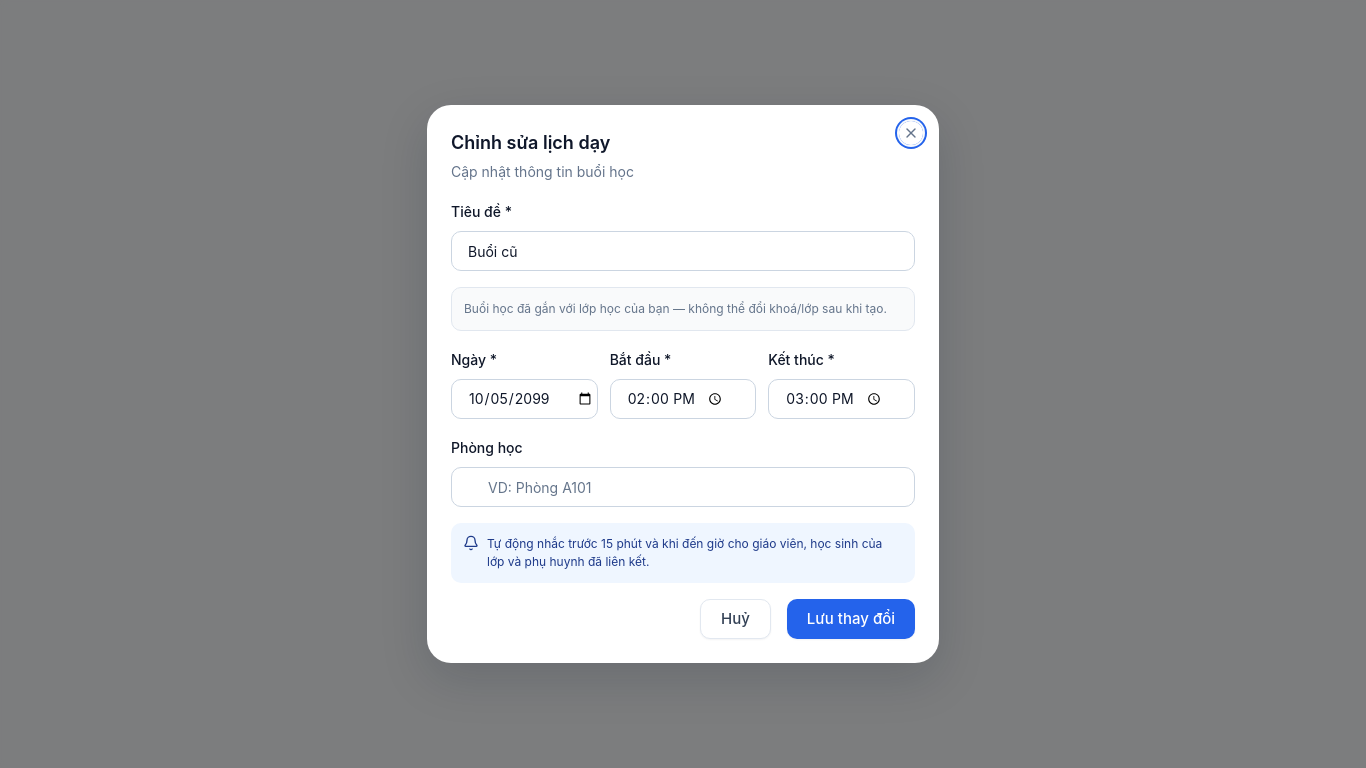
Test case: ScheduleEventFormDialog — sửa buổi › giờ kết thúc không sau giờ bắt đầu: hiện lỗi và KHÔNG lưu
The width and height of the screenshot is (1366, 768).
Replace the text in the time field labelled "Kết thúc *" with "13:00" at (842, 399), box [768,379,915,419]
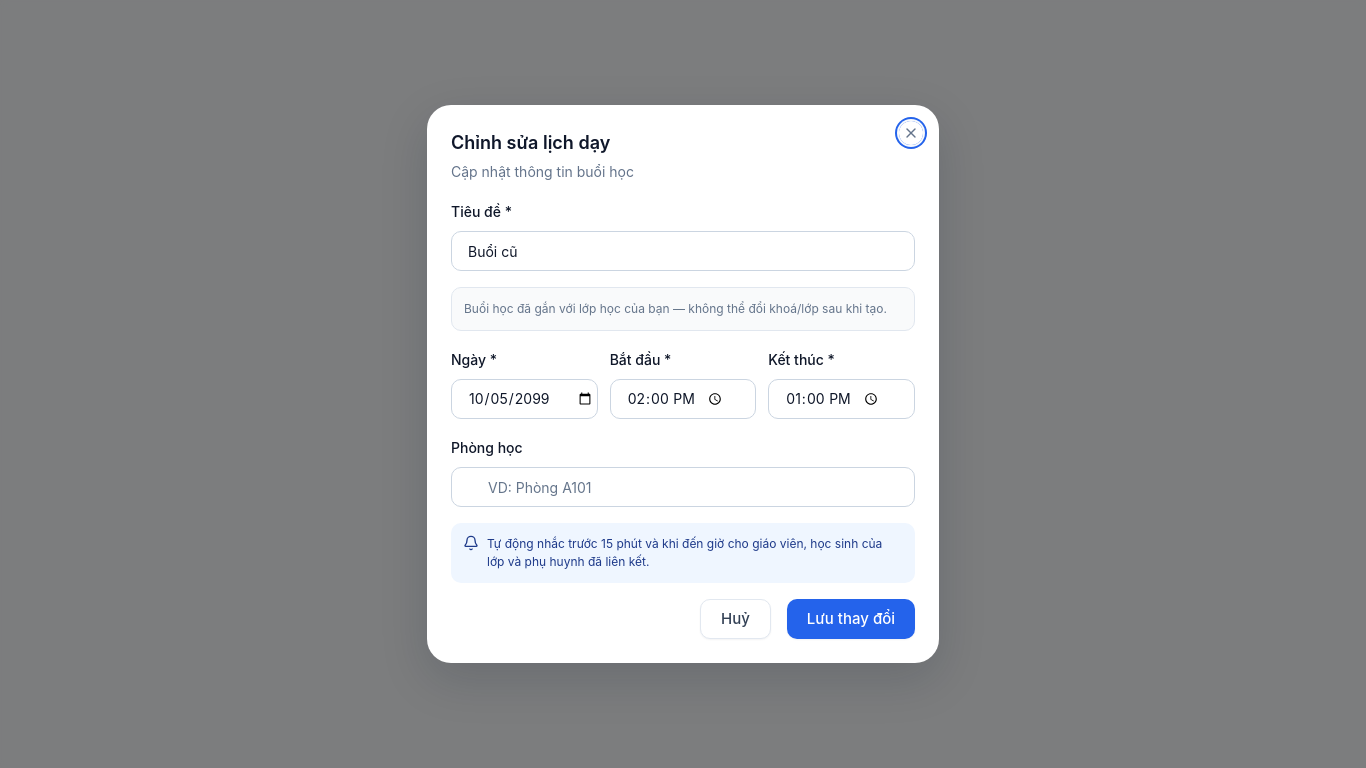
Click the button "Lưu thay đổi" at (851, 619), box [787,599,915,639]
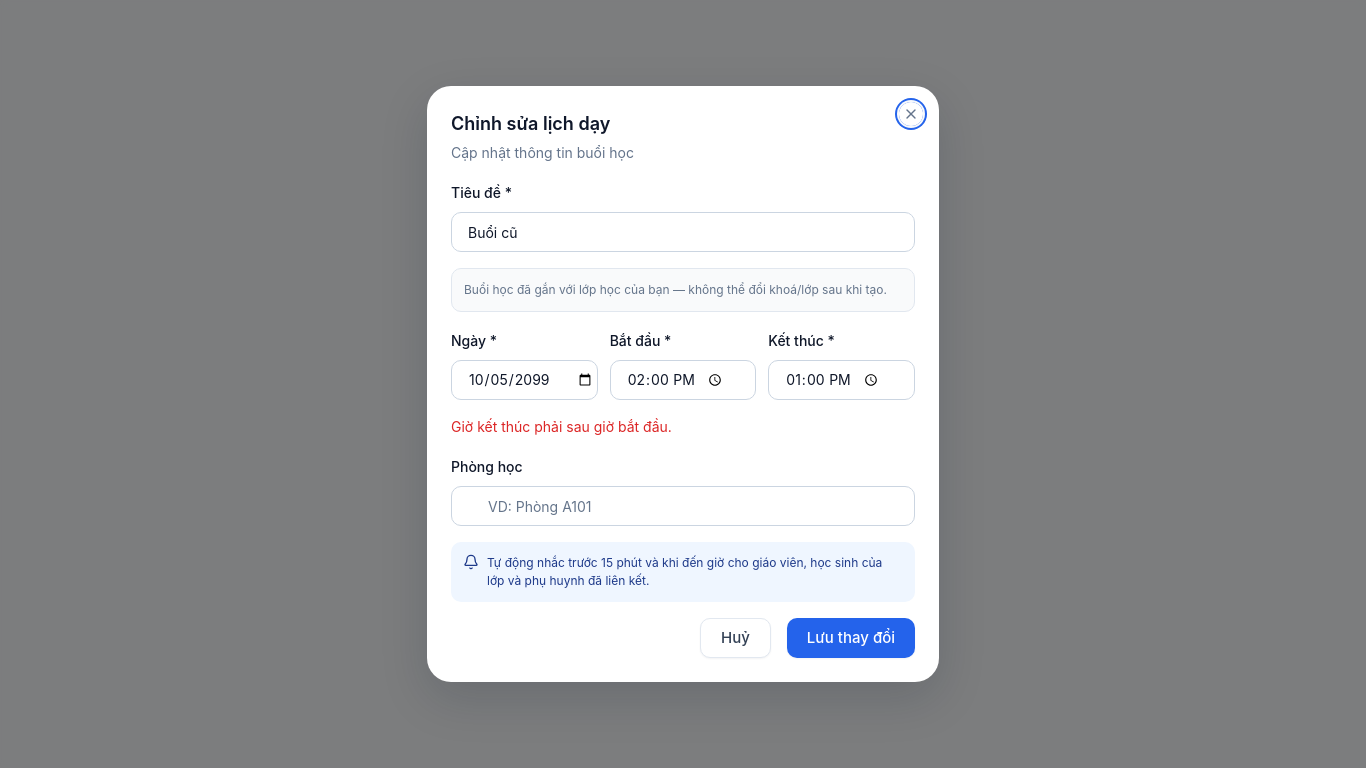
Expected: the message shows "sau giờ bắt đầu", [451,418,672,435]
